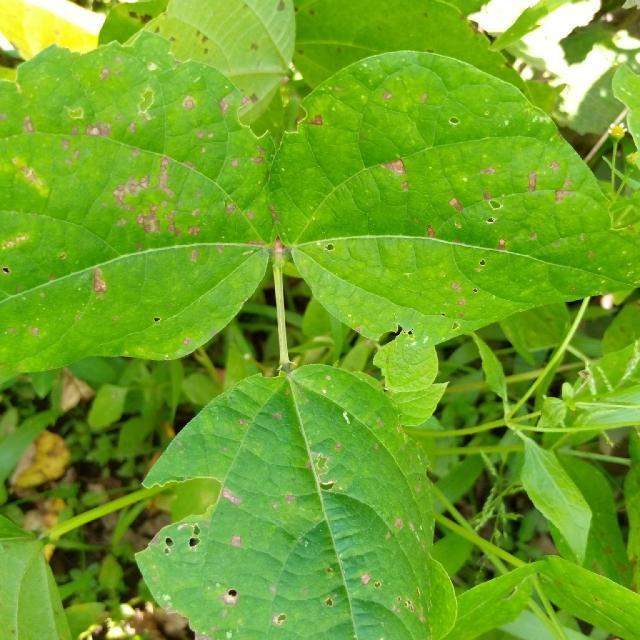mozaik: (101, 314, 397, 640)
